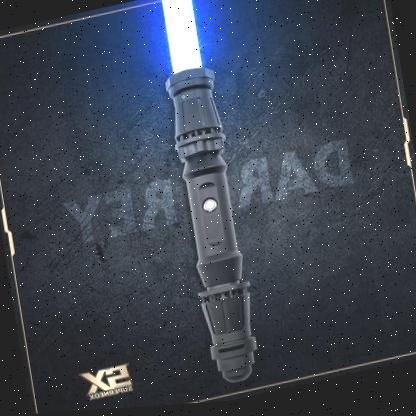lightsaber: (151, 0, 262, 395)
